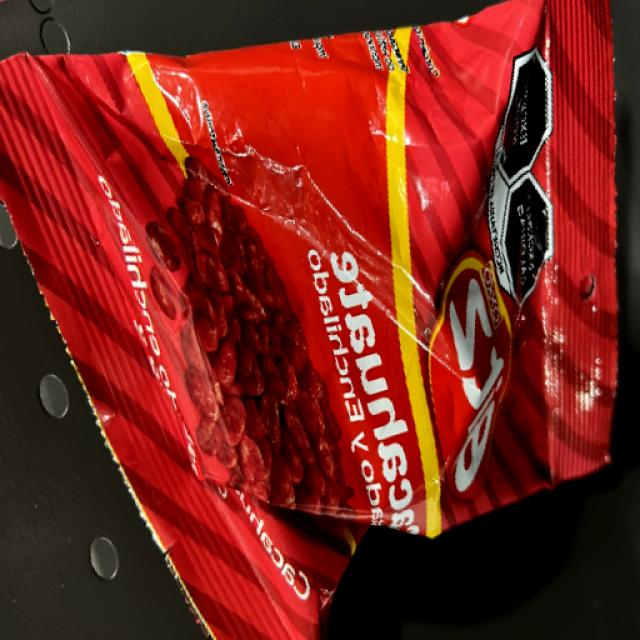bitzEnchilado90: (0, 14, 640, 546)
